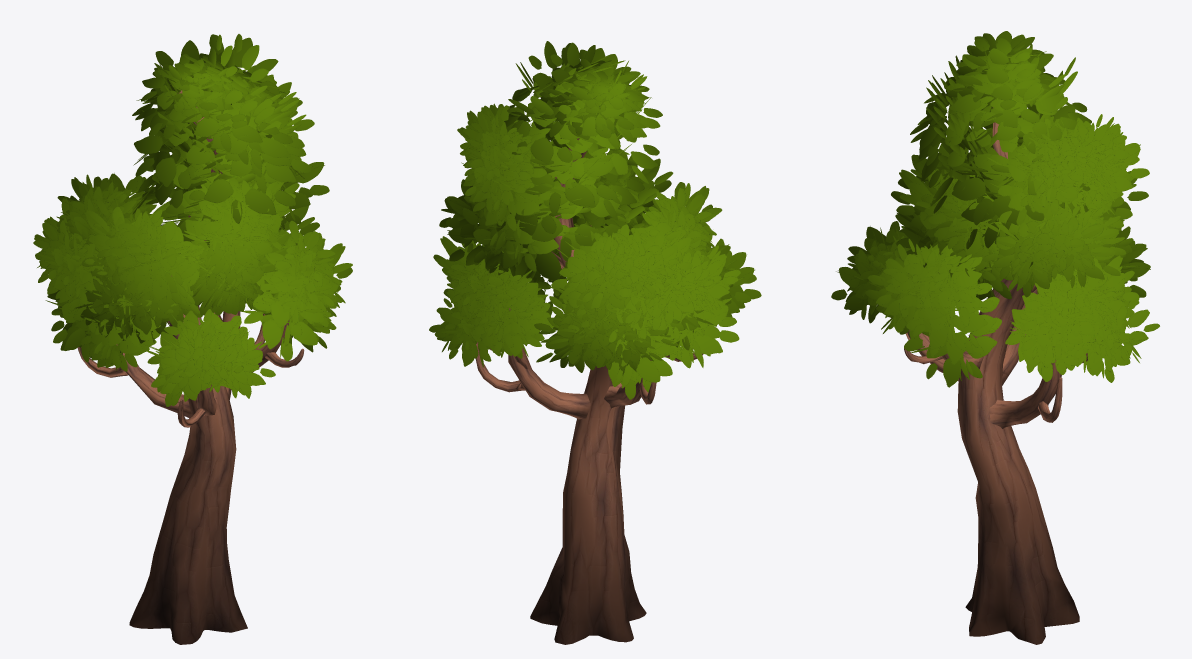
Rendered from nature-commontree-2.glb.
3 renders of one model, left to right at view 1: azimuth 30°, elevation 25°; view 2: azimuth 150°, elevation 25°; view 3: azimuth 270°, elevation 25°, orthographic. The views are drawn at different scales.
Parts seen in each view (by area): view 1: CommonTree_2; view 2: CommonTree_2; view 3: CommonTree_2.
Part boxes in pixels (box(x1,y1,x2,y2)): CommonTree_2: box(33, 34, 352, 644); CommonTree_2: box(429, 41, 761, 644); CommonTree_2: box(831, 31, 1159, 644).
Size of the model in its own units: 4.46 by 7.64 by 4.28.
2 materials, 2 textured.
